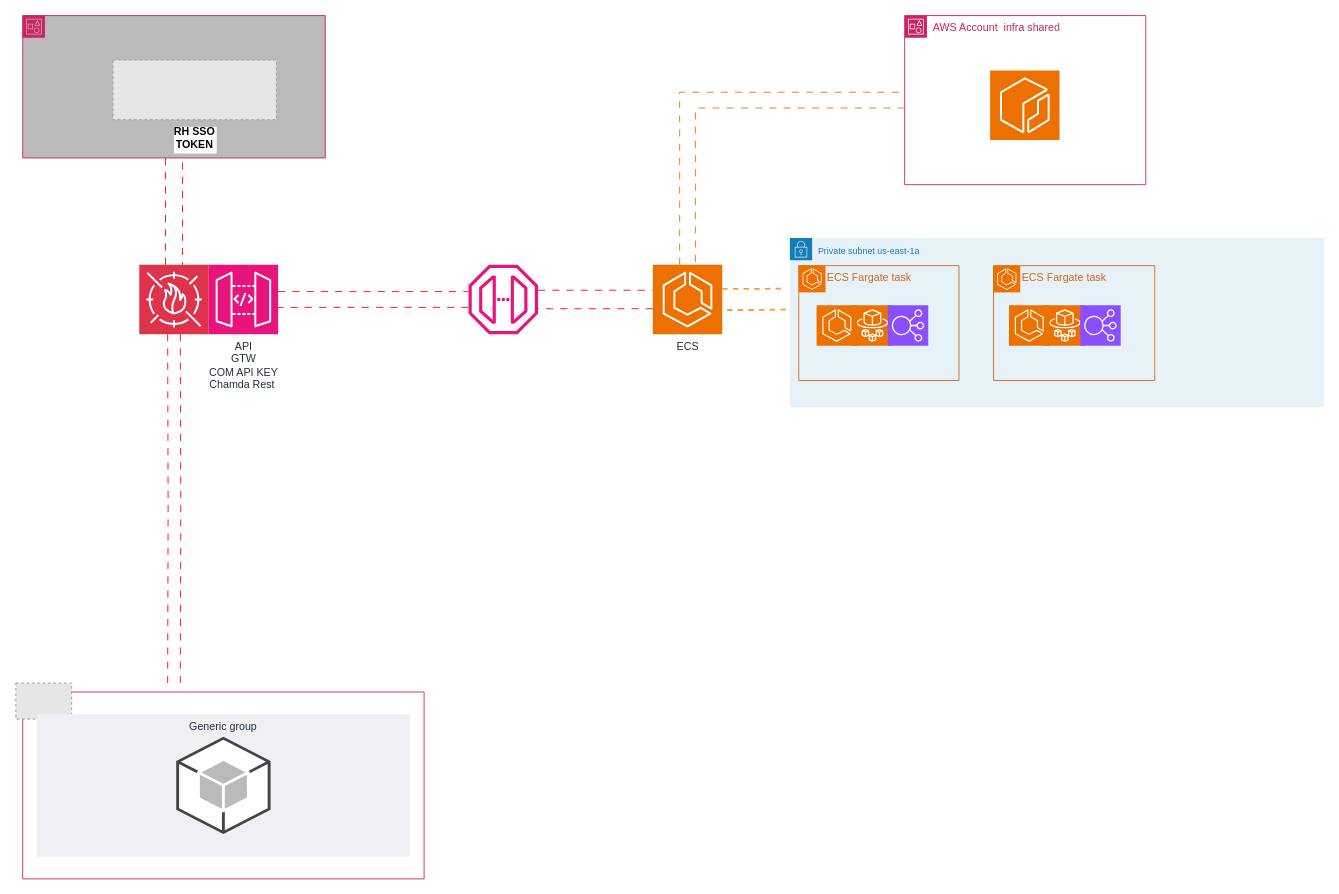
Image size: 1339x894. Some labels were removed from this diagram. Grey dashed boxes stand in for pictures. The box of each missing label's shape, as (x1, y1, x2, y2) in pixels:
AWS Account: (22, 15, 325, 158)
IMAGE + COMMIT + TAG: (989, 70, 1060, 140)
PORTAL: (175, 736, 271, 834)
VPC EP API GTW: (468, 264, 538, 334)
